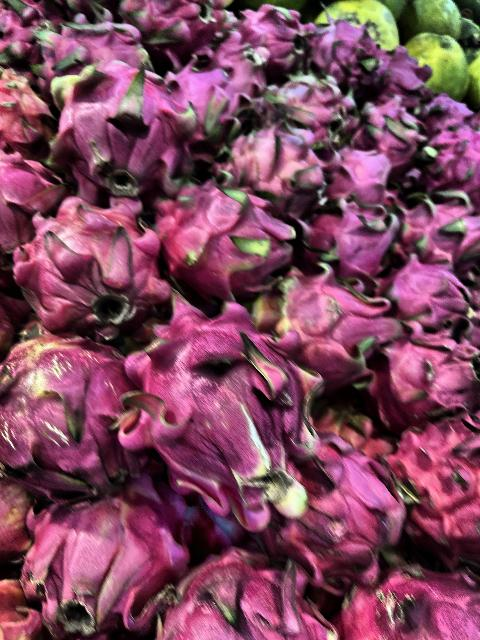buah-naga-belum-matang: (137, 296, 325, 524), (0, 313, 140, 499), (256, 268, 400, 384), (225, 122, 326, 208), (1, 59, 54, 167)
buah-naga-matang: (12, 494, 190, 630), (57, 49, 191, 203), (24, 195, 160, 333), (292, 442, 422, 582), (151, 542, 336, 640), (166, 169, 304, 299), (382, 418, 480, 554), (330, 554, 480, 640), (380, 331, 480, 417), (303, 191, 395, 277), (390, 256, 480, 342), (1, 140, 66, 256), (168, 58, 238, 158), (38, 17, 148, 72), (282, 75, 361, 151), (358, 100, 428, 162), (222, 18, 270, 90)
